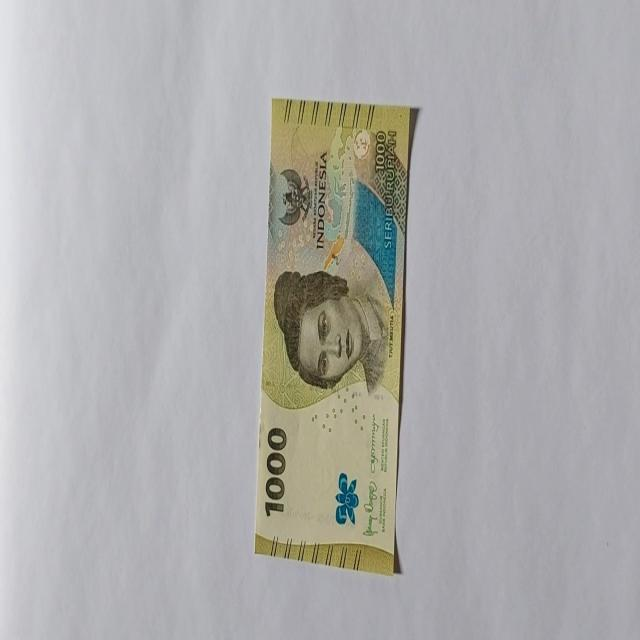seribu rupiah kertas: (254, 97, 416, 575)
